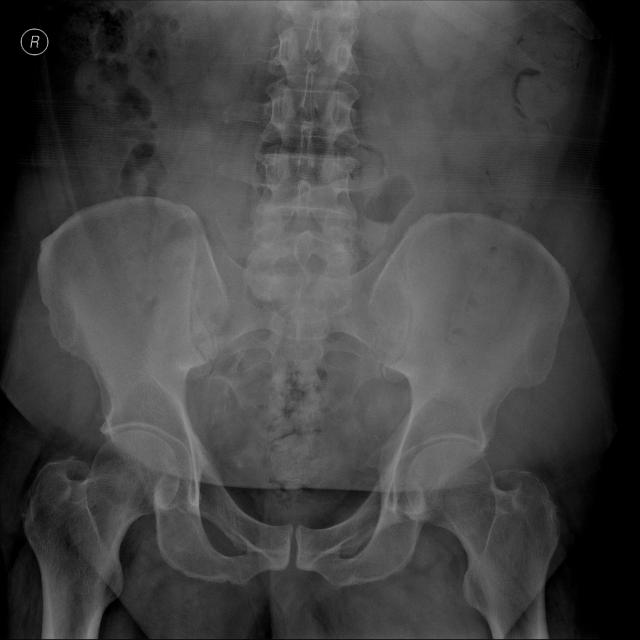normal-left: (405, 442, 559, 640)
normal-right: (24, 430, 179, 640)
